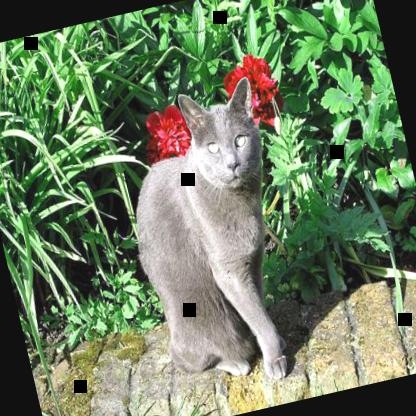cat: (105, 76, 317, 404)
